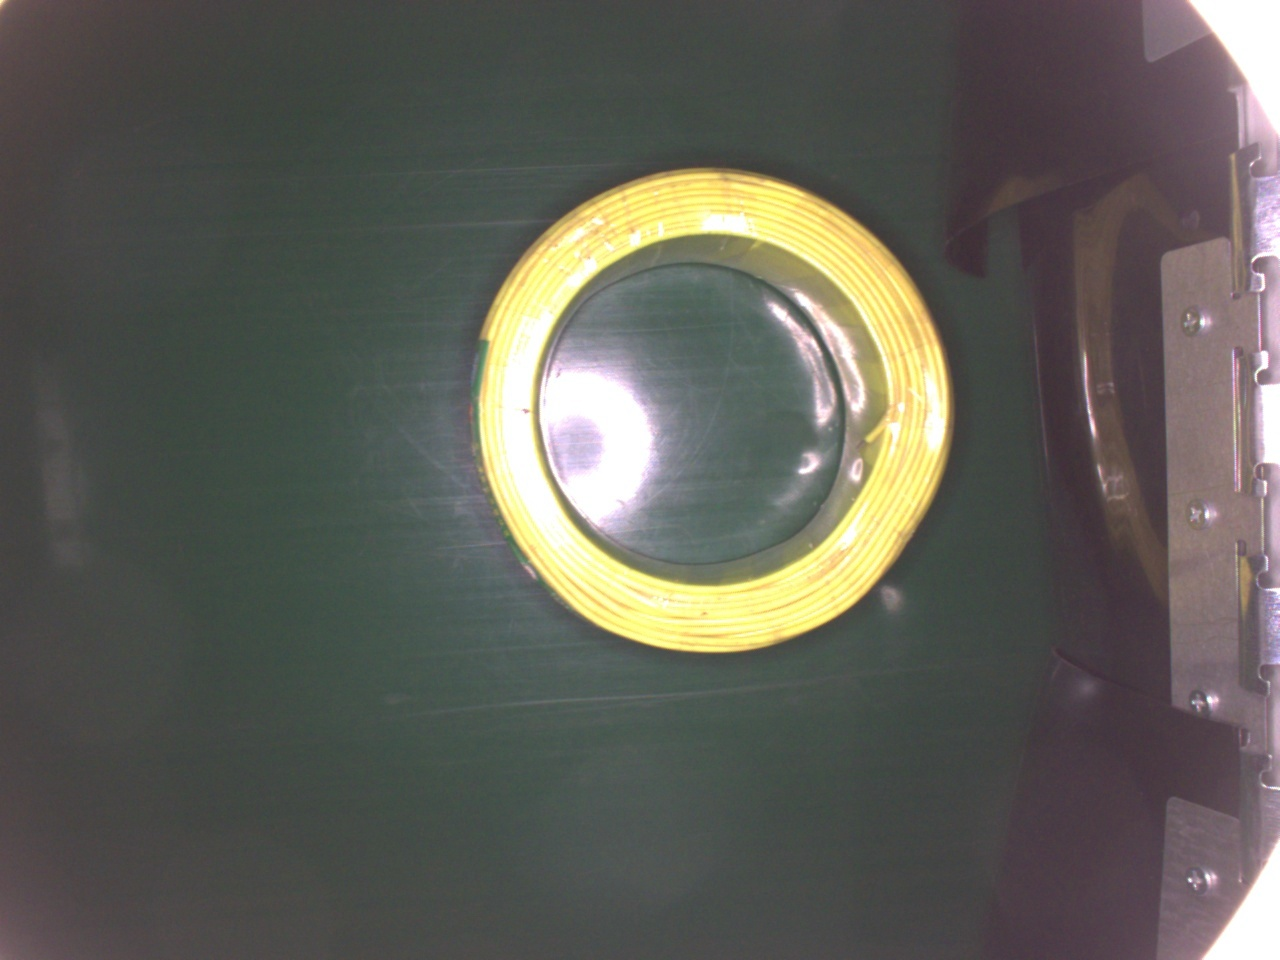yellow: (458, 165, 961, 652)
